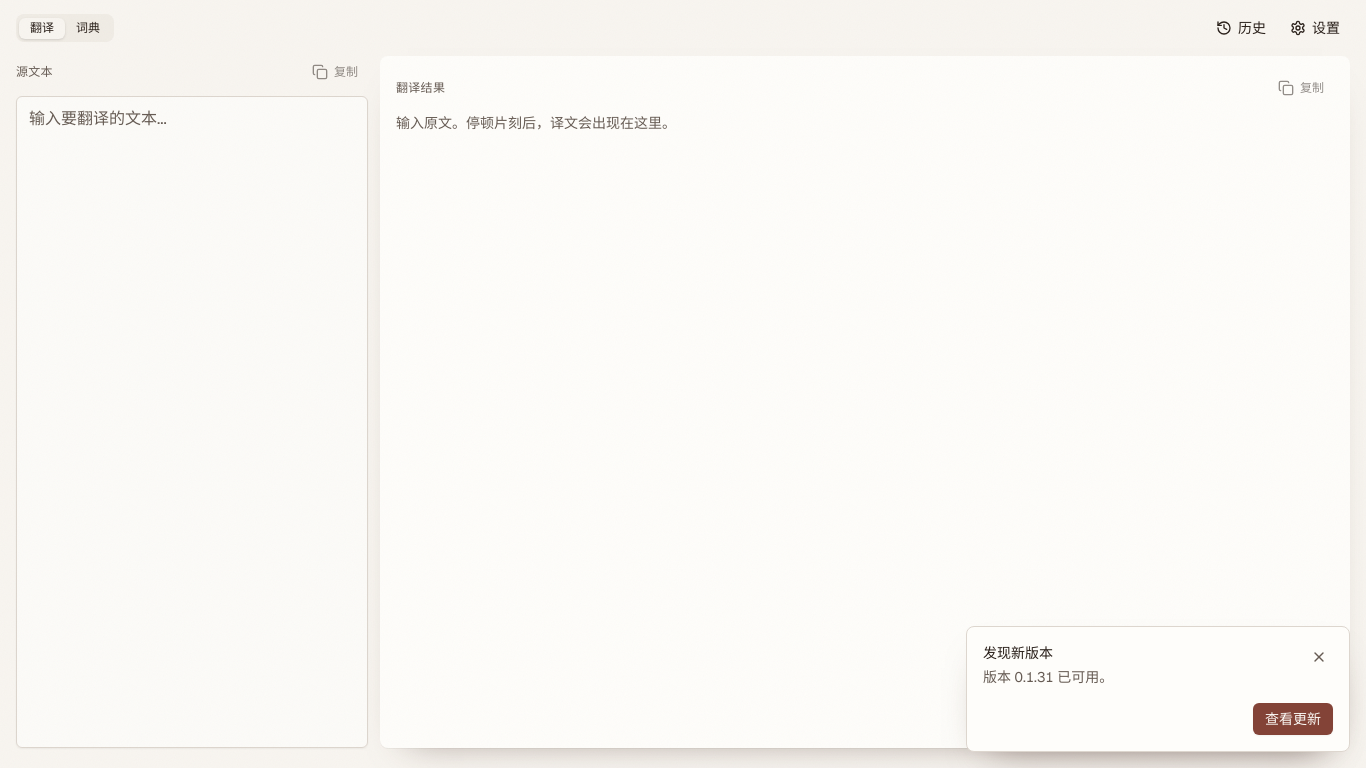
Test: home update toast › dismisses the toast without skipping the version
Click the button named "关闭更新提示" at (1319, 657), box [1305,643,1333,671]
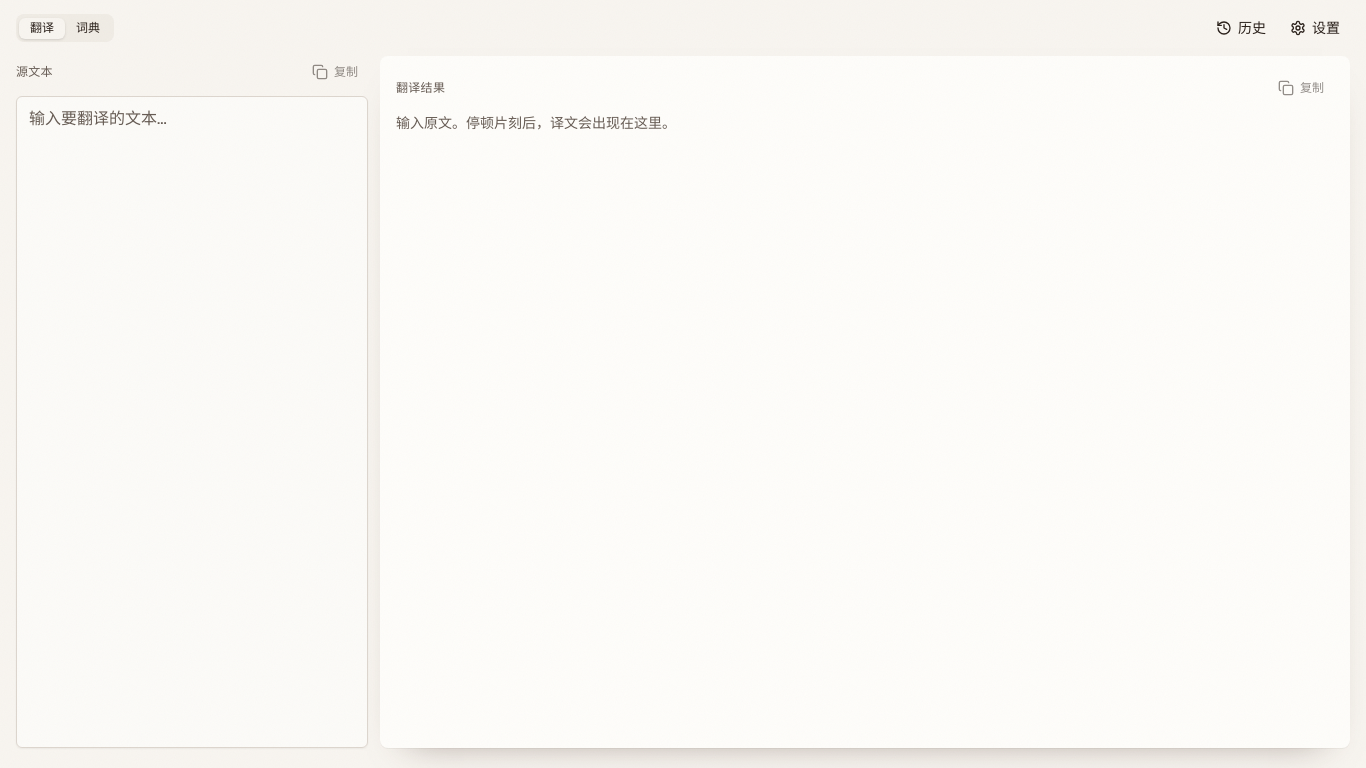
Expected: the text "发现新版本" is gone
